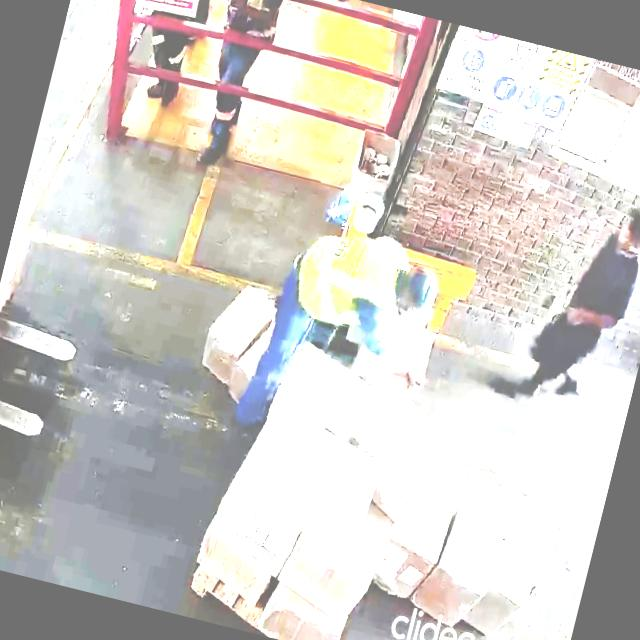Box: (272, 421, 392, 558), (424, 472, 510, 623), (266, 334, 374, 444), (358, 393, 454, 499), (206, 486, 300, 570), (277, 538, 370, 622), (188, 527, 276, 602), (472, 539, 536, 640), (499, 485, 558, 559), (260, 592, 341, 640)
